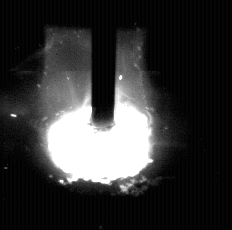arame: (92, 0, 116, 131)
poca: (46, 0, 152, 230)
